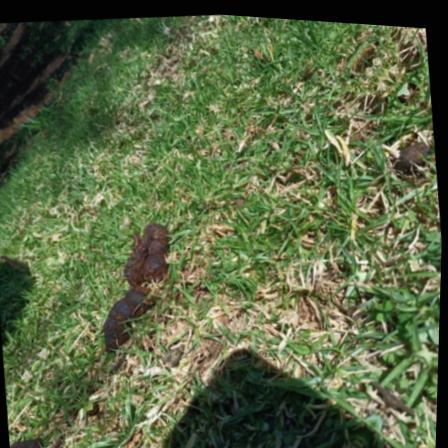dog-poop: (83, 216, 185, 356)
